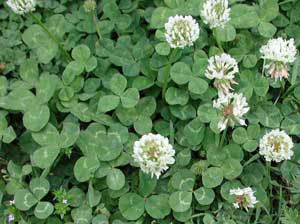clover: (5, 2, 296, 221)
